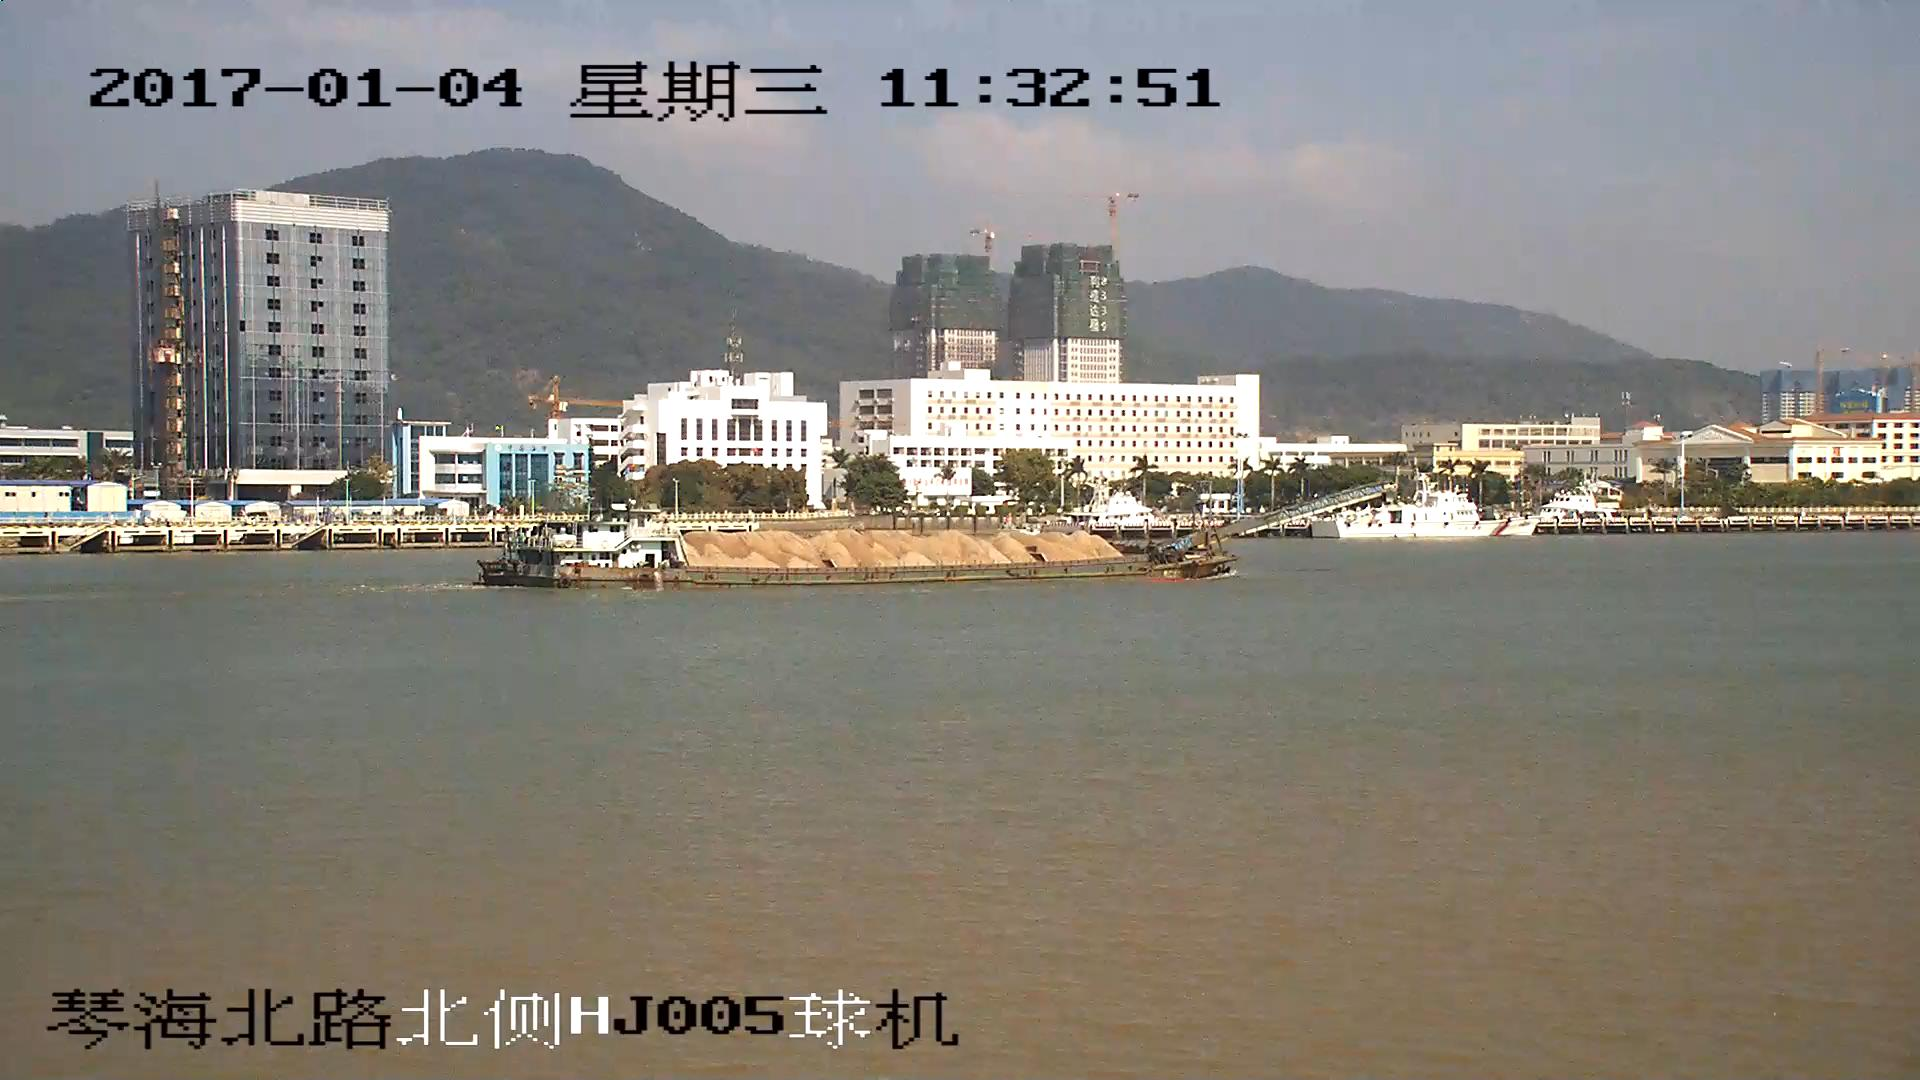ore carrier: (477, 480, 1391, 591)
